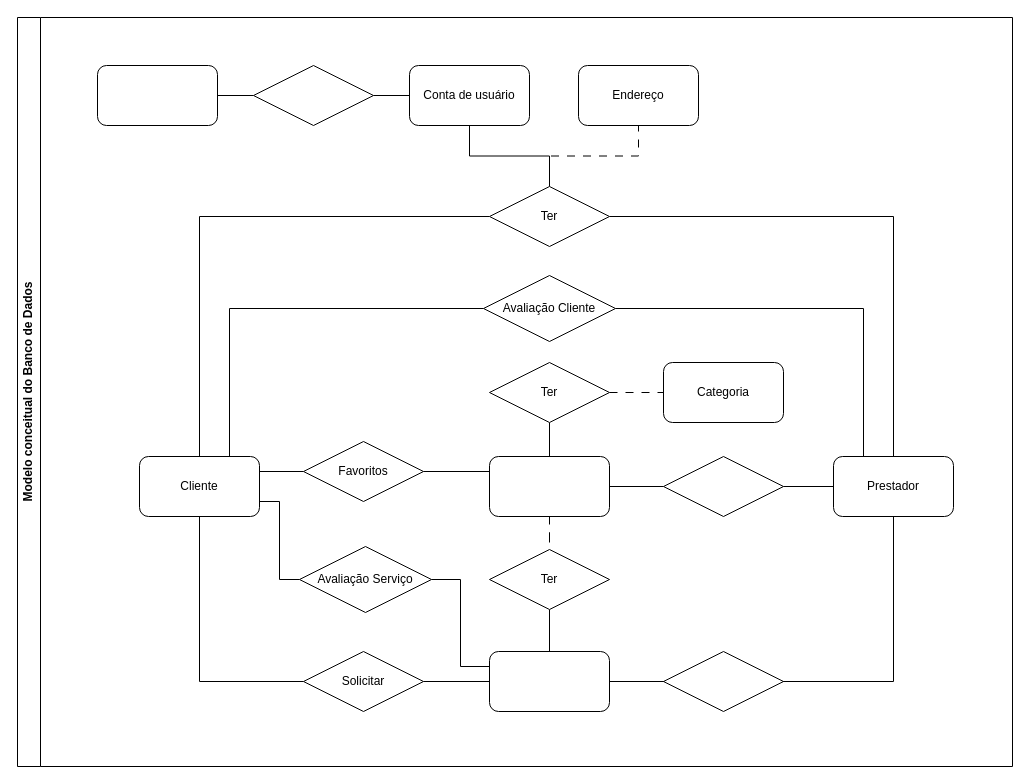
Image size: 1030x784. Some labels were removed from this diagram. Each missing label, with the centre of its shape:
"Aceitar/Recusar" goes at (x=723, y=681).
"Anúncio do serviço" goes at (x=549, y=486).
"Fazer" goes at (x=723, y=486).
"Fornecer" goes at (x=313, y=95).
"Permissão" goes at (x=157, y=95).
"Serviço" goes at (x=549, y=681).
